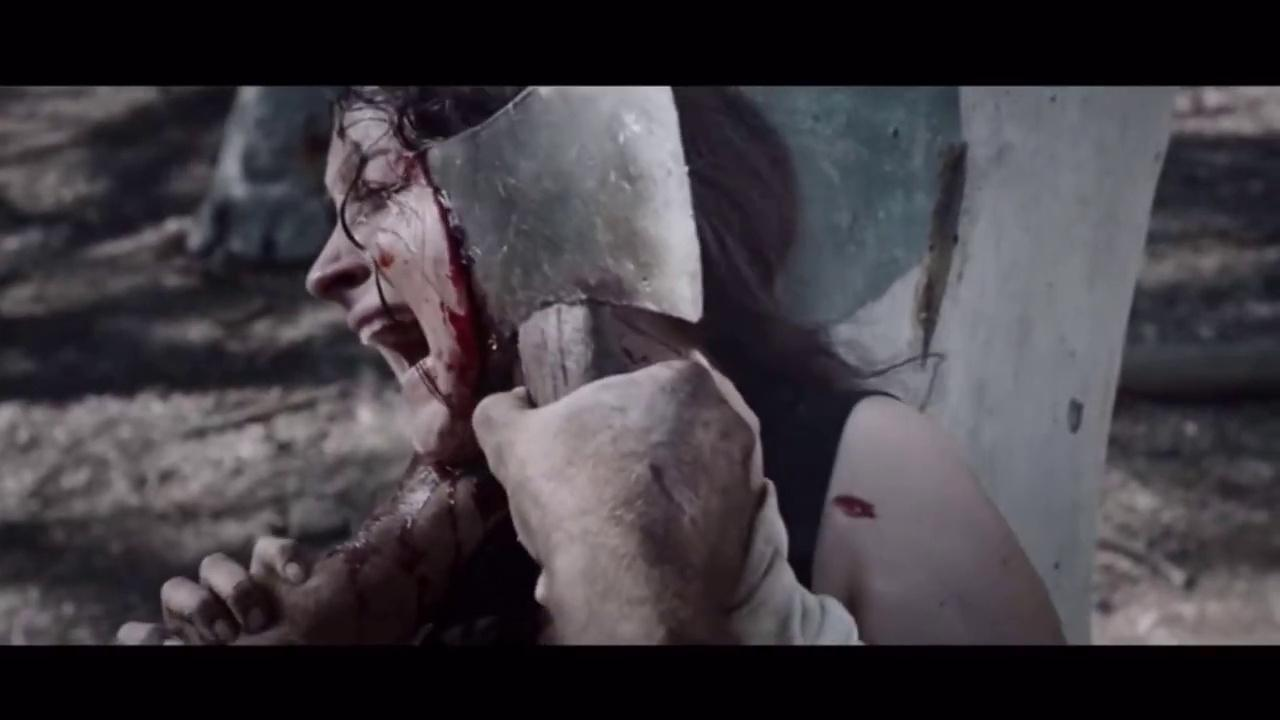Fire: (350, 147, 507, 621), (834, 495, 879, 520), (376, 250, 396, 269)
